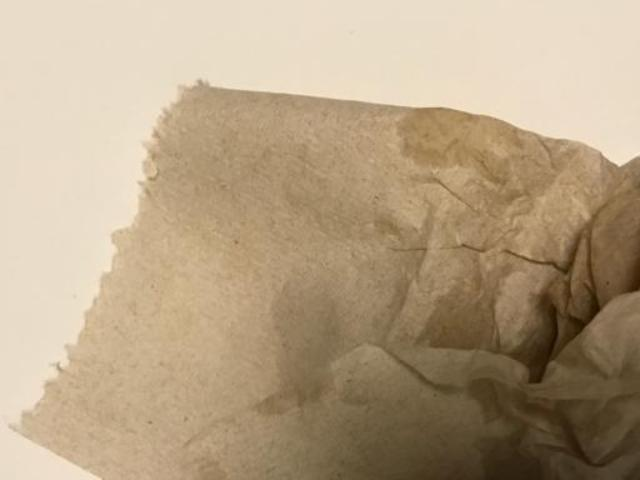cardboard paper: (19, 84, 638, 475)
